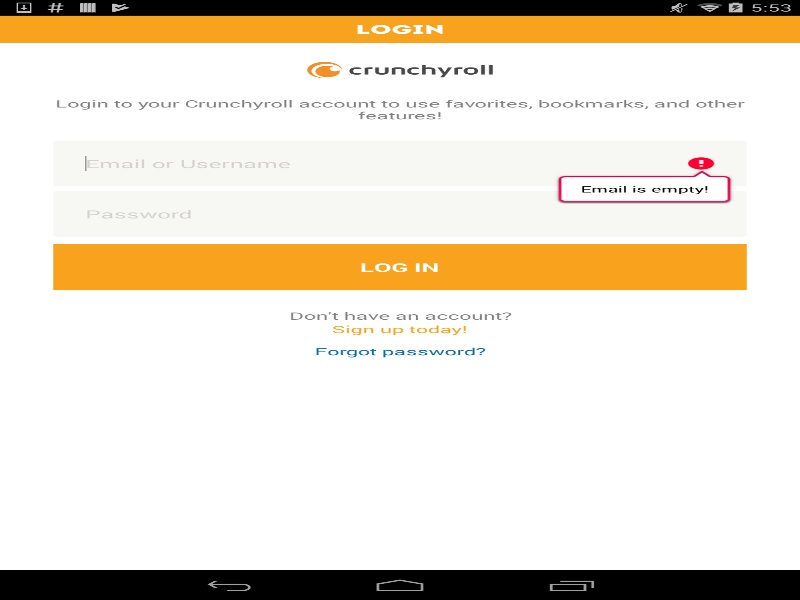Input: (85, 155, 714, 171), (85, 206, 714, 221)
